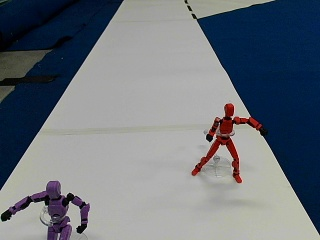pedestrian: (190, 104, 265, 180), (0, 180, 89, 237)
